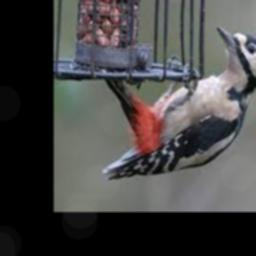Woodpecker: (103, 25, 256, 180)
